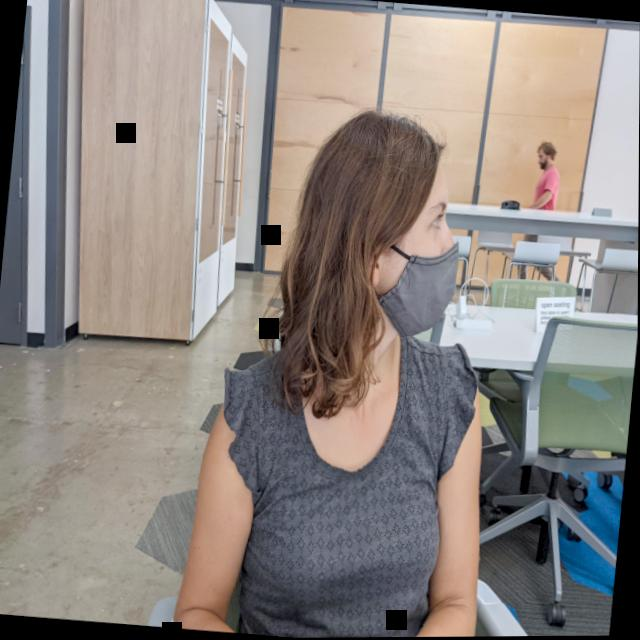Mask: (358, 160, 467, 342)
NO-Mask: (536, 149, 551, 171)
